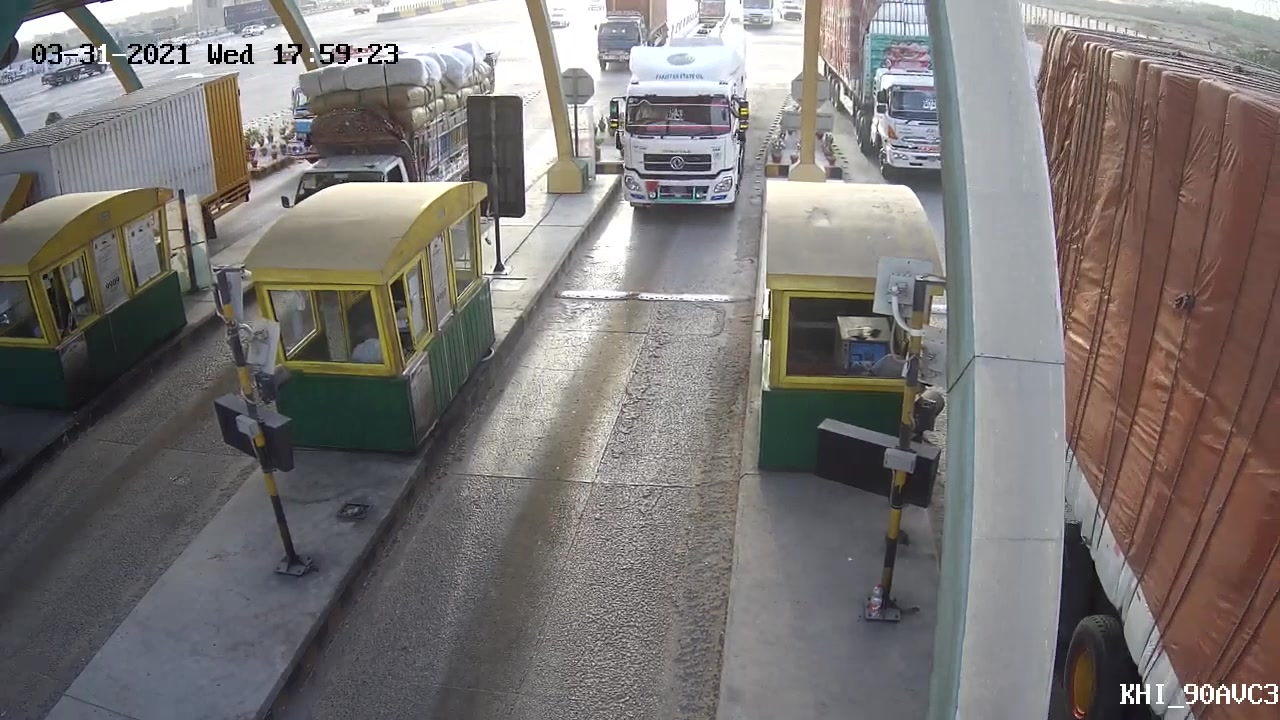F6: (600, 49, 753, 217)
